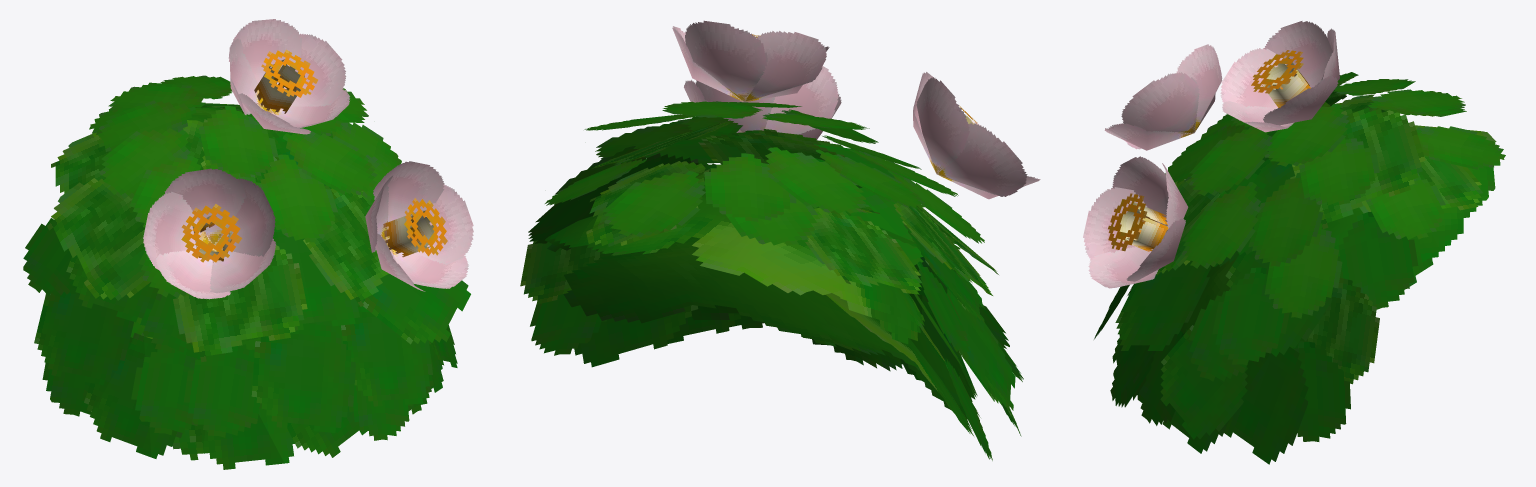
Rendered from pink-camellia.glb.
3 views of the same model, side by side, from view 1: azimuth 30°, elevation 25°; view 2: azimuth 150°, elevation 25°; view 3: azimuth 270°, elevation 25° (orthographic). The views are drawn at different scales.
Size of the model in its own units: 10.61 by 9.55 by 10.15.
Materials: 2 (2 with a texture image).
